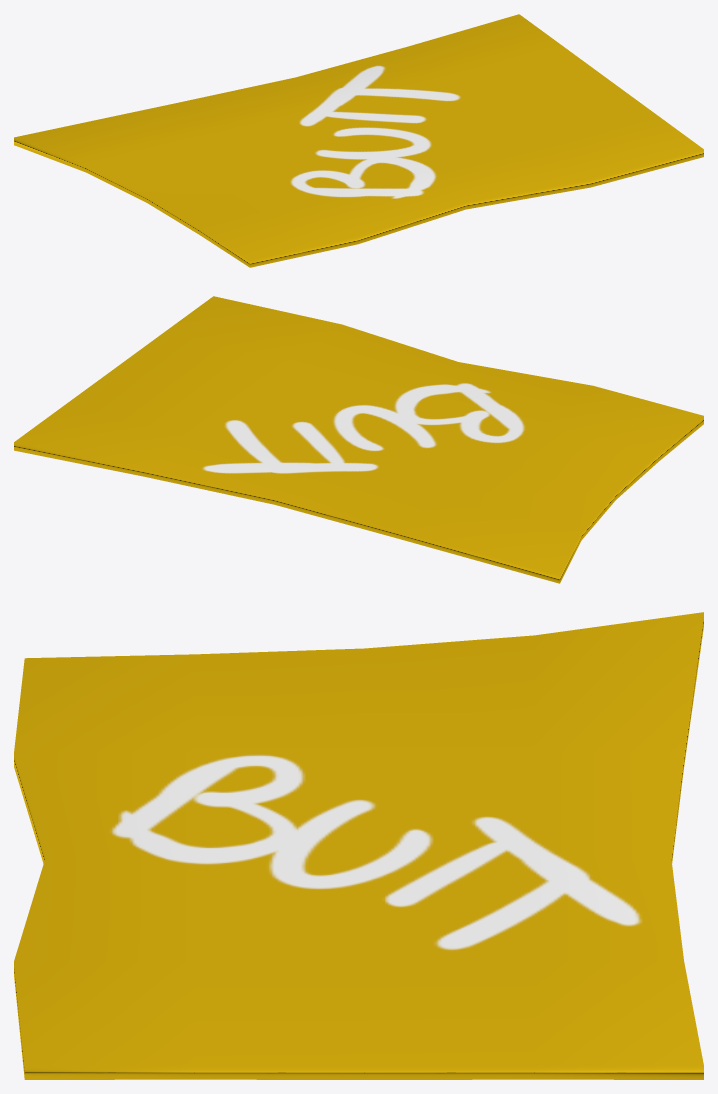
Rendered from dirtyMagazine.fbx.
3 renders of one model, top to bottom at view 1: azimuth 30°, elevation 25°; view 2: azimuth 150°, elevation 25°; view 3: azimuth 270°, elevation 25°, orthographic. The views are drawn at different scales.
Visible parts, largest first — view 1: pCube3; view 2: pCube3; view 3: pCube3.
Part boxes in pixels (box(x1,y1,x2,y2)): pCube3: box(14, 14, 703, 267); pCube3: box(14, 296, 703, 583); pCube3: box(14, 612, 703, 1079).
Bounding box in the file's own units: 57.84 × 0.8513 × 37.19.
